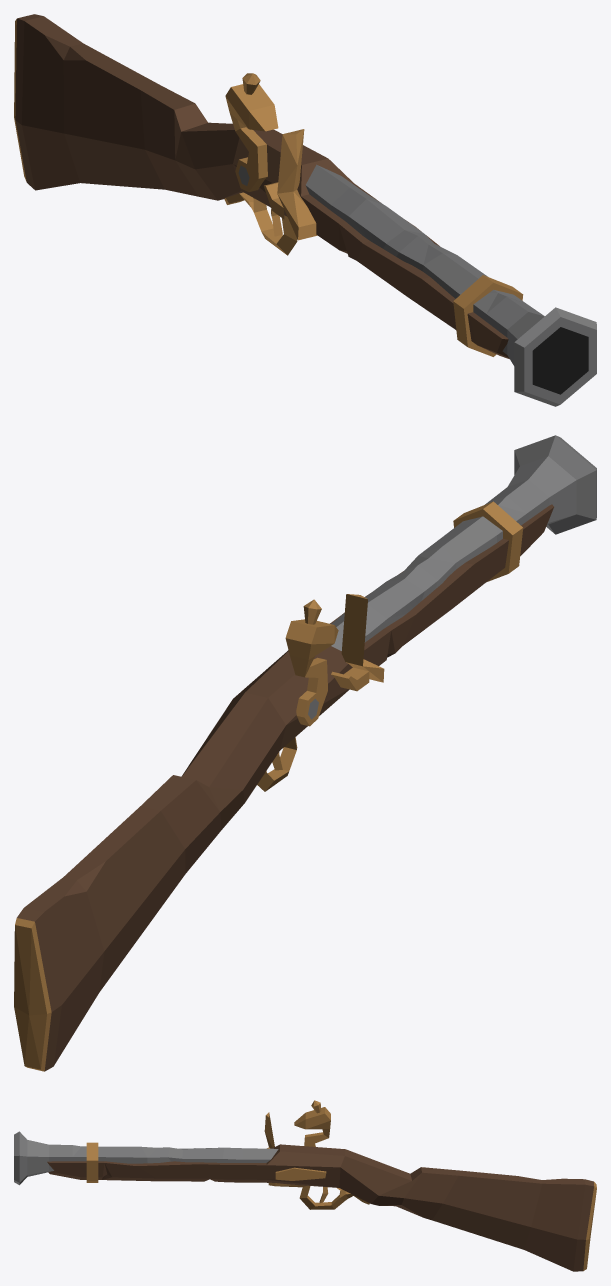
The model's file is SM_Wep_BlunderBuss_01_Separate.glb.
The picture shows the model from 3 angles, top to bottom: view 1: azimuth 30°, elevation 25°; view 2: azimuth 150°, elevation 25°; view 3: azimuth 270°, elevation 25°; orthographic projection. The views are drawn at different scales.
Visible parts, largest first — view 1: SM_Wep_BlunderBuss_01_Trigger; view 2: SM_Wep_BlunderBuss_01_Trigger; view 3: SM_Wep_BlunderBuss_01_Trigger.
Boxes of the visible parts, x1,y1,x2,y2 form: SM_Wep_BlunderBuss_01_Trigger: [14, 14, 596, 406]; SM_Wep_BlunderBuss_01_Trigger: [14, 435, 596, 1071]; SM_Wep_BlunderBuss_01_Trigger: [14, 1100, 596, 1271].
Bounding box in the file's own units: 0.000958 × 0.00324 × 0.0106.
